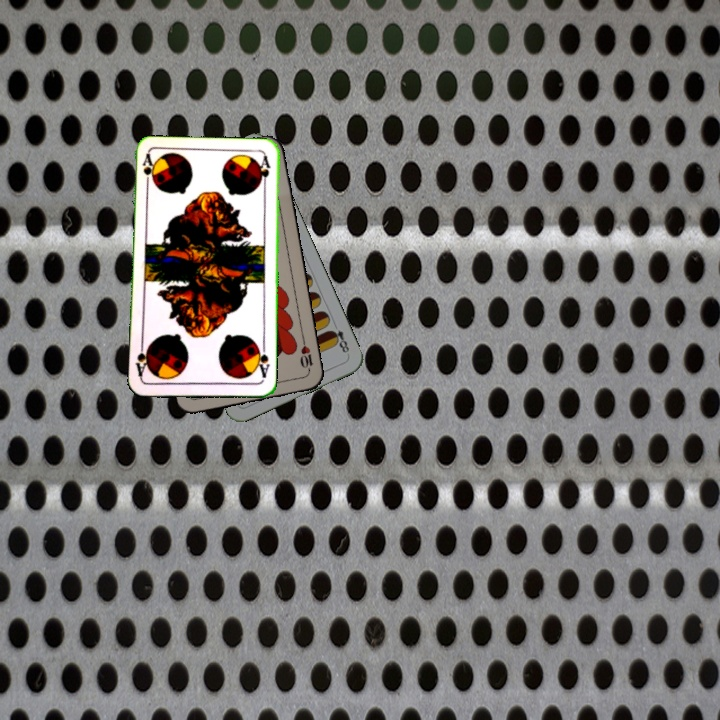E8: (326, 319, 352, 358)
H10: (296, 335, 315, 376)
SA: (252, 342, 272, 382), (138, 151, 155, 191)
